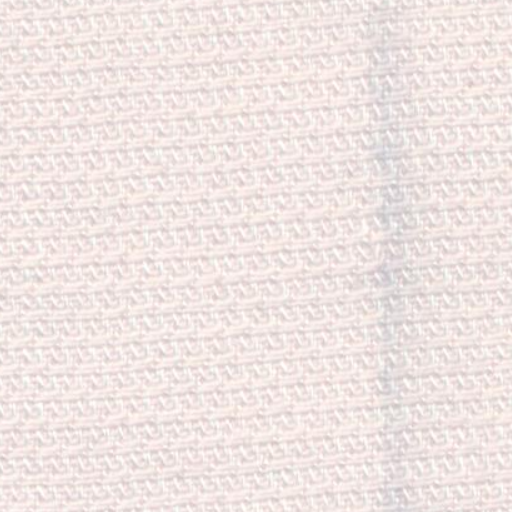WuZi: (328, 10, 465, 498)
